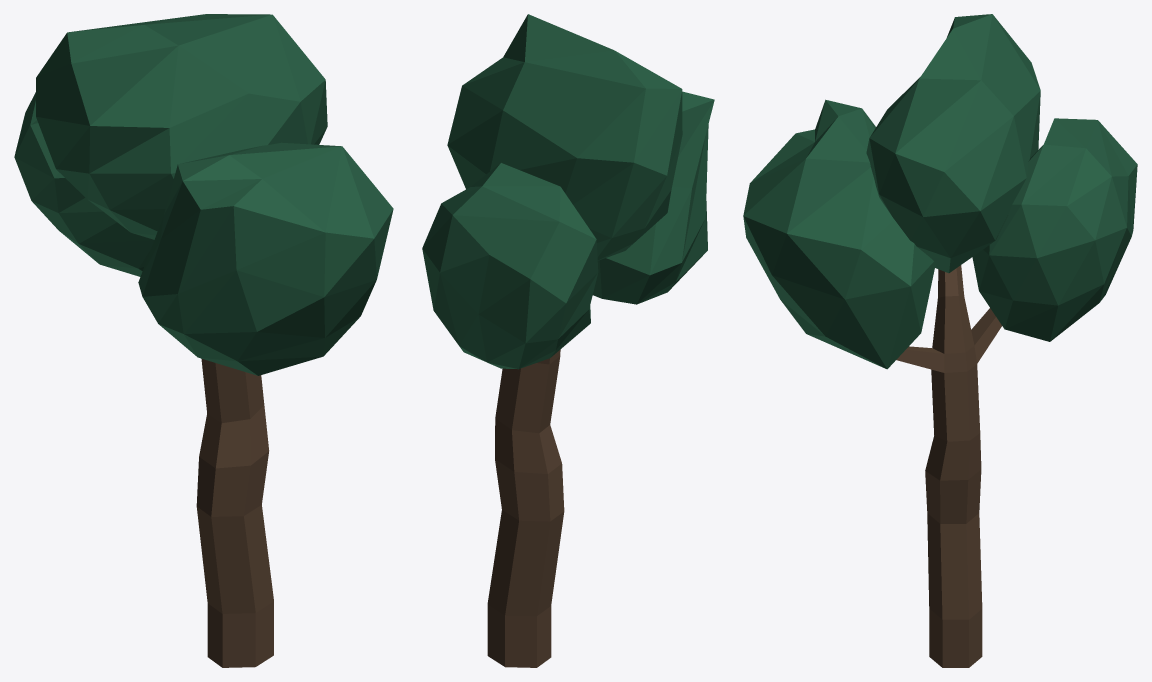
The model's file is Tree.fbx.
3 renders of one model, left to right at view 1: azimuth 30°, elevation 25°; view 2: azimuth 150°, elevation 25°; view 3: azimuth 270°, elevation 25°, orthographic. The views are drawn at different scales.
Parts seen in each view (by area): view 1: Tree; view 2: Tree; view 3: Tree.
Part boxes in pixels (x1,y1,x2,y2): Tree: (14, 14, 393, 667); Tree: (422, 14, 714, 667); Tree: (743, 14, 1137, 667).
Bounding box in the file's own units: 297 × 202 × 486.
